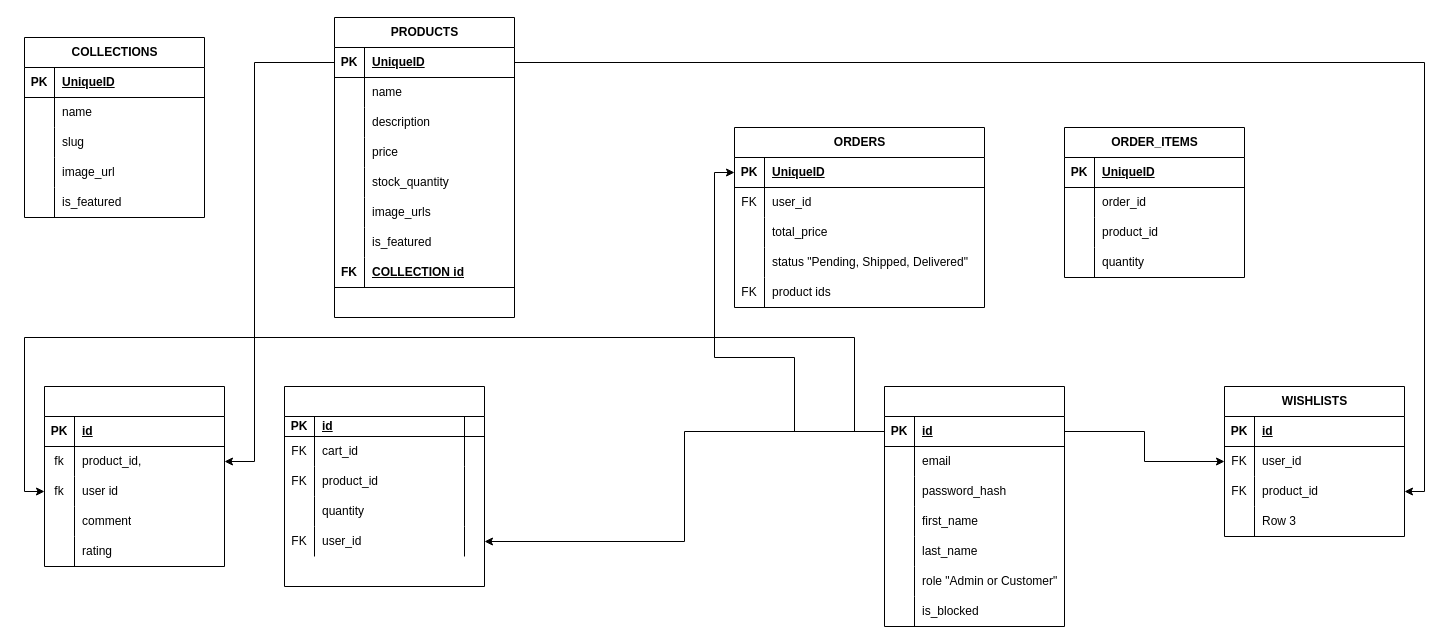
Some shapes in this 1450 by 644 pixel diagram are drawn without their labels. The box of each missing label's shape, as (x1, y1, x2, y2) in pixels:
CART_ITEMS: (284, 386, 484, 586)
REVIEWS: (44, 386, 224, 566)
USERS: (884, 386, 1064, 626)
